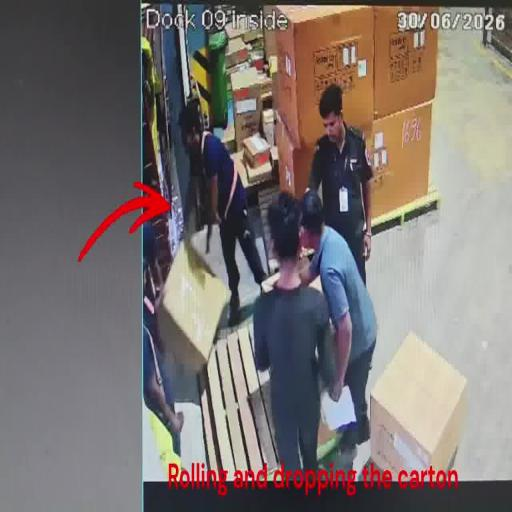carton: (368, 330, 468, 488), (273, 5, 375, 153), (157, 233, 231, 381), (363, 100, 434, 223), (374, 4, 444, 122), (275, 123, 322, 198)
pallet: (200, 317, 284, 484), (371, 194, 443, 240)
person: (249, 195, 340, 511), (296, 187, 377, 453), (180, 104, 268, 328), (310, 82, 374, 286), (142, 276, 184, 453)
